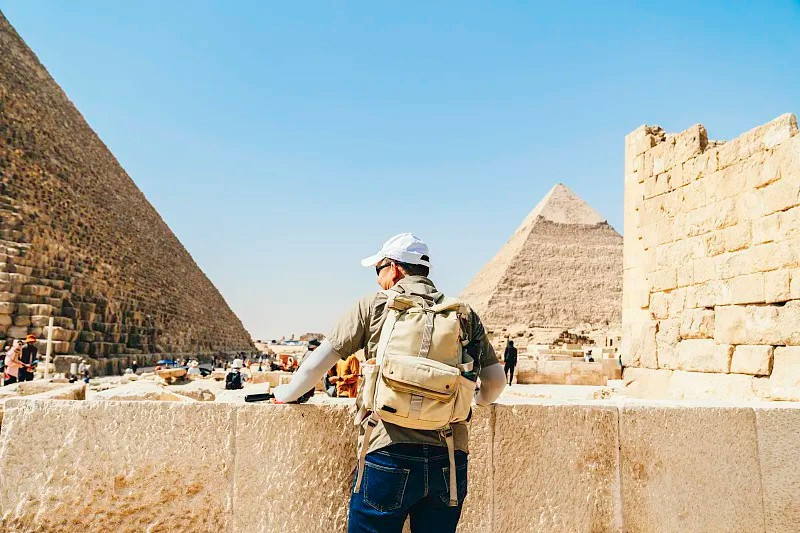Pyramid: (1, 12, 261, 378), (454, 183, 622, 336)
